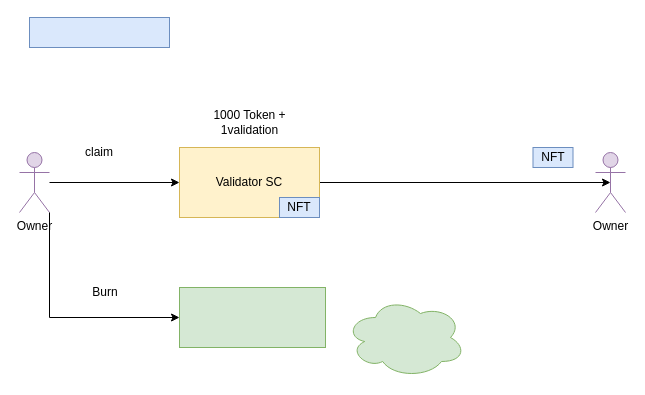
The diagram is 645 pixels wide and 395 high, and some of its shapes have lost their labels. The shapes that lost their labels are listed below. From the top down, each one's centre as x and y in pixels, then its label:
At point (99, 32): "Burn process".
At point (252, 317): "Minting SC".
At point (405, 337): "Burn 1000 token 1 validation".
